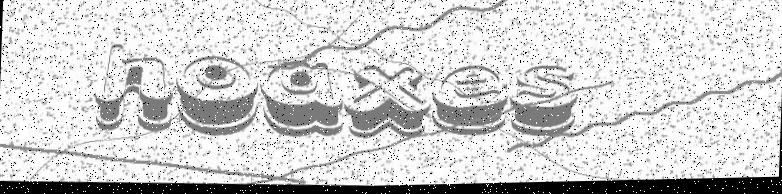a: (261, 57, 345, 141)
e: (431, 63, 510, 142)
h: (93, 39, 177, 134)
o: (174, 53, 264, 136)
s: (508, 61, 582, 142)
x: (342, 62, 432, 144)
